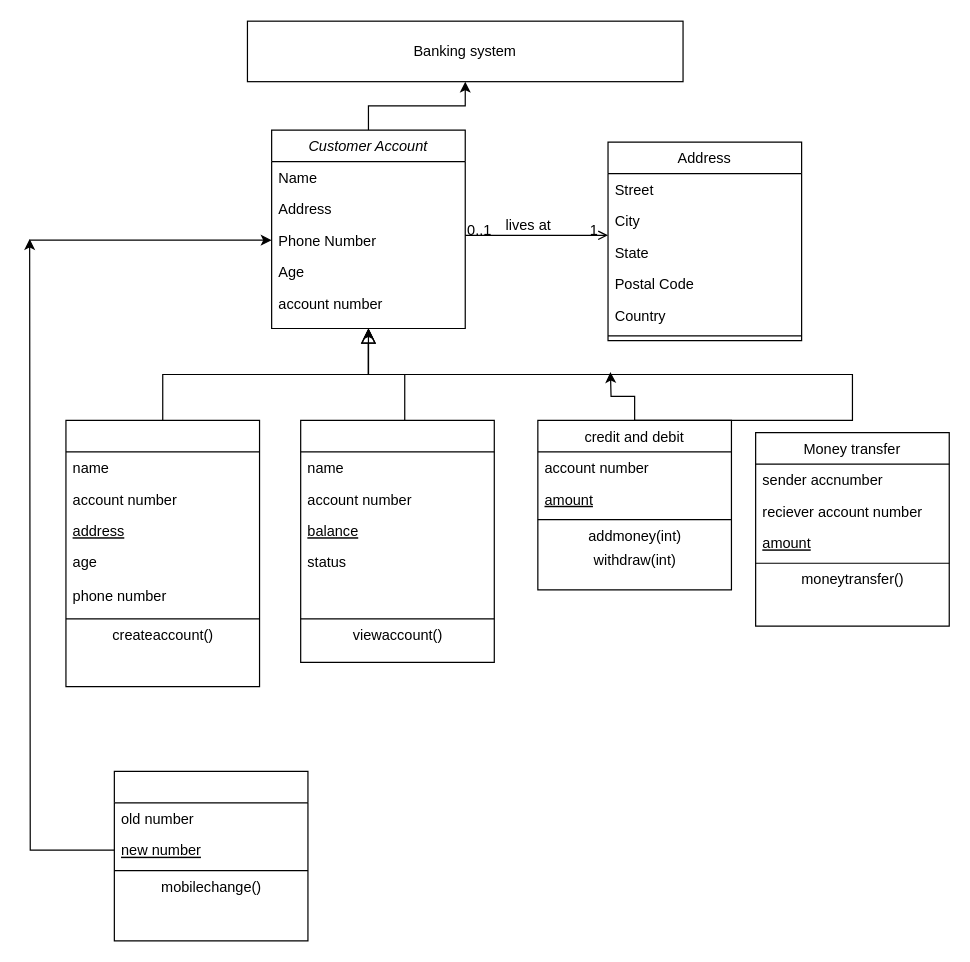
This 970x962 diagram has some shape labels left out. The box of each missing label's shape, as (x1, y1, x2, y2) in pixels:
Account creation: (65, 419, 260, 687)
Account retrival: (299, 419, 494, 662)
mobile number change: (113, 770, 308, 941)
